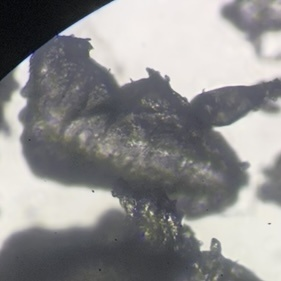microplastic: (18, 33, 253, 218), (1, 210, 265, 280), (108, 175, 224, 281), (188, 78, 281, 131), (218, 1, 281, 39), (254, 147, 281, 210), (1, 71, 20, 137)
